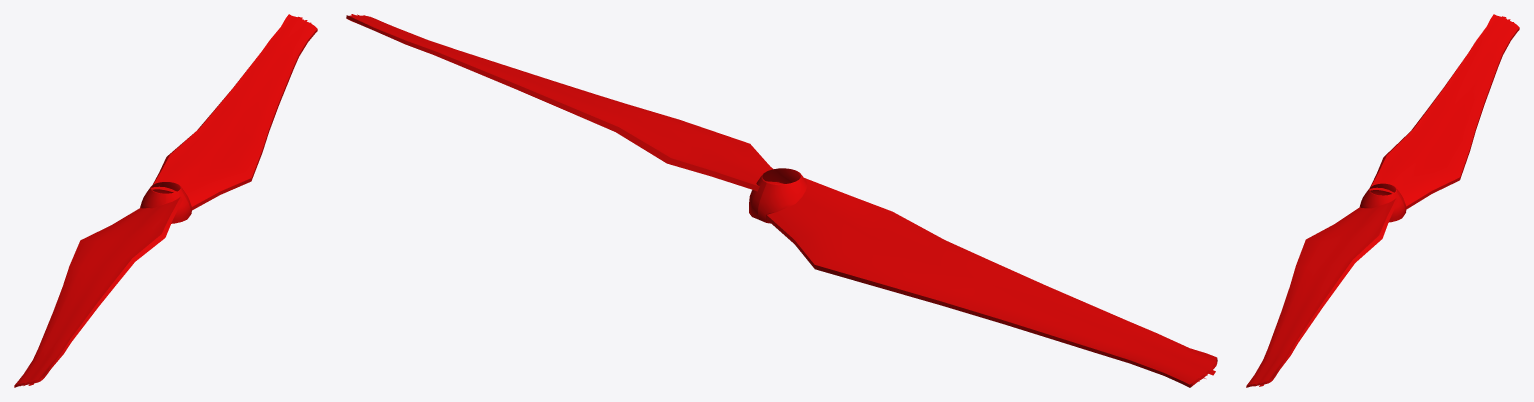
The model's file is propeller_red.fbx.
The picture shows the model from 3 angles, left to right: view 1: azimuth 90°, elevation 25°; view 2: azimuth 150°, elevation 25°; view 3: azimuth 270°, elevation 25°; orthographic projection. The views are drawn at different scales.
Visible parts, largest first — view 1: polySurface8; view 2: polySurface8; view 3: polySurface8.
Boxes of the visible parts, left/top/right/bottom form: polySurface8: left=14, top=14, right=317, bottom=387; polySurface8: left=346, top=14, right=1217, bottom=387; polySurface8: left=1246, top=14, right=1519, bottom=387.
Bounding box in the file's own units: 17.81 × 0.746 × 5.89.
